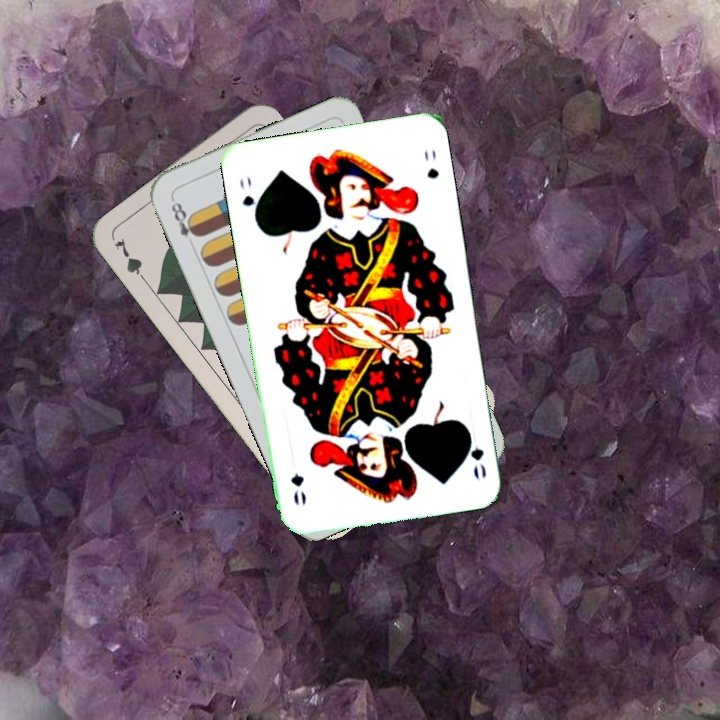E8: (167, 194, 203, 251)
G7: (110, 234, 152, 288)
GO: (462, 424, 489, 483), (235, 171, 262, 225)
